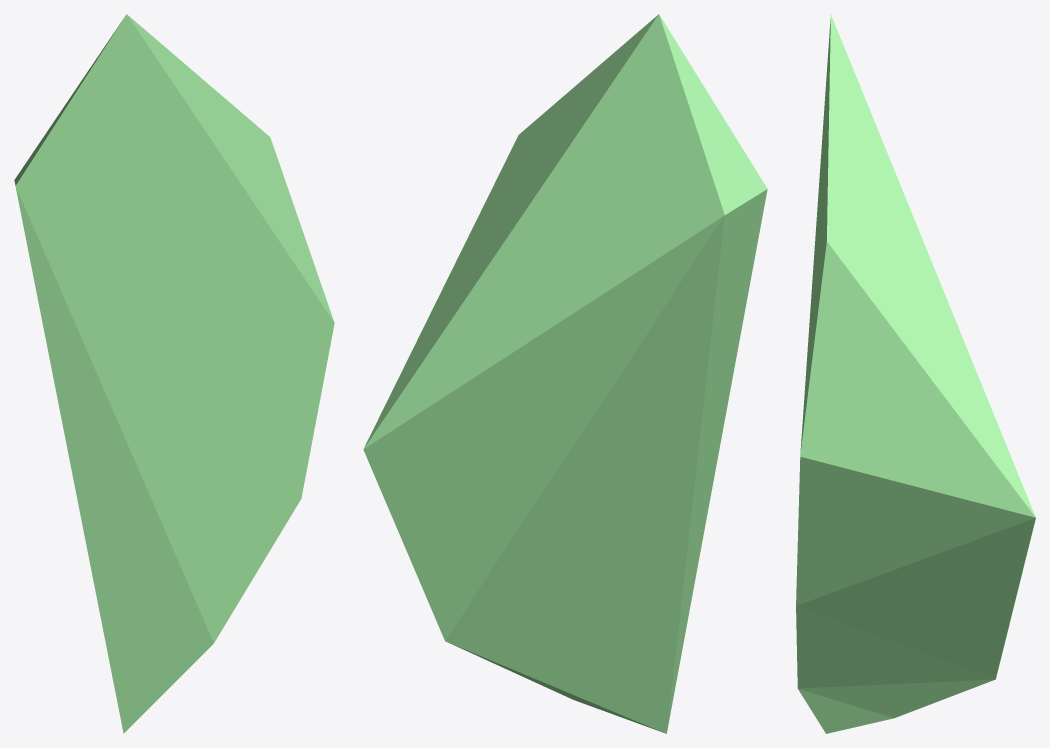
The model's file is xarm7_with_gripper_LR4_R560_link2_respondable_coll_10.dae.
3 views of the same model, side by side, from view 1: azimuth 30°, elevation 25°; view 2: azimuth 150°, elevation 25°; view 3: azimuth 270°, elevation 25° (orthographic).
Visible parts, largest first — view 1: Node_000001B89B5E4920; view 2: Node_000001B89B5E4920; view 3: Node_000001B89B5E4920.
Part boxes in pixels (x1,y1,x2,y2): Node_000001B89B5E4920: (14, 14, 334, 733); Node_000001B89B5E4920: (363, 14, 767, 733); Node_000001B89B5E4920: (796, 14, 1035, 733).
Size of the model in its own units: 0.07 by 0.1586 by 0.0477.
